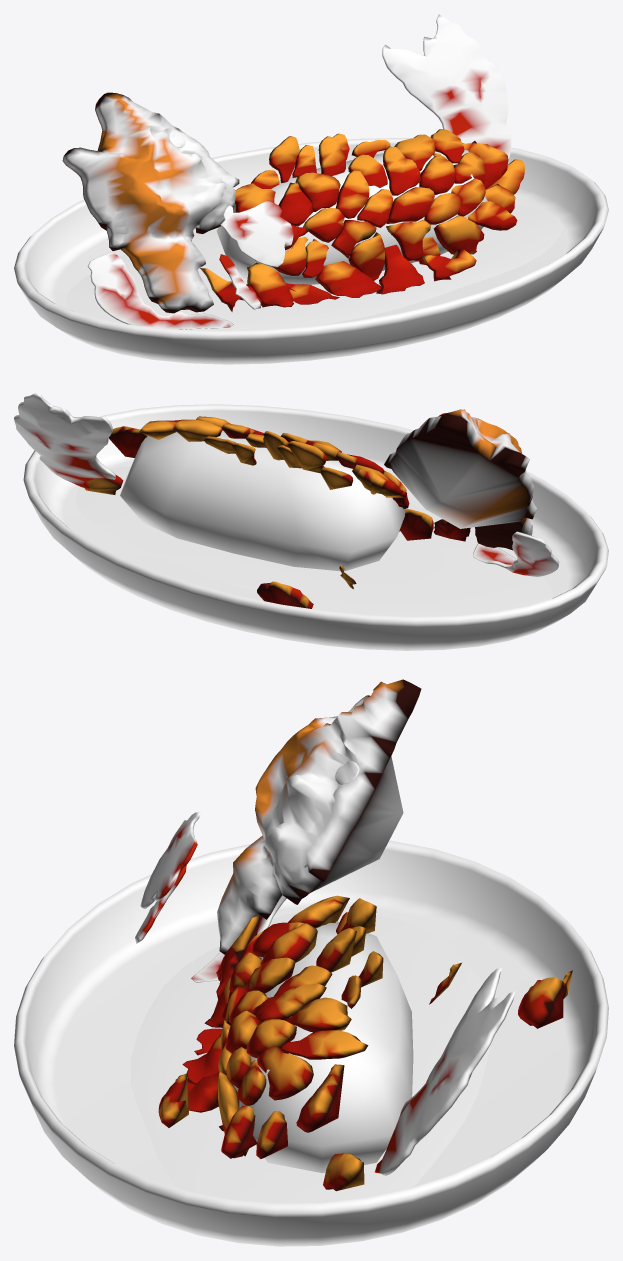
The picture shows the model from 3 angles, top to bottom: view 1: azimuth 30°, elevation 25°; view 2: azimuth 150°, elevation 25°; view 3: azimuth 270°, elevation 25°; orthographic projection. The views are drawn at different scales.
Parts seen in each view (by area): view 1: SM_D18; view 2: SM_D18; view 3: SM_D18.
Part boxes in pixels (x1,y1,x2,y2): SM_D18: (14, 14, 608, 364); SM_D18: (14, 393, 608, 650); SM_D18: (14, 679, 608, 1246).
Bounding box in the file's own units: 0.3289 × 0.119 × 0.2219.
